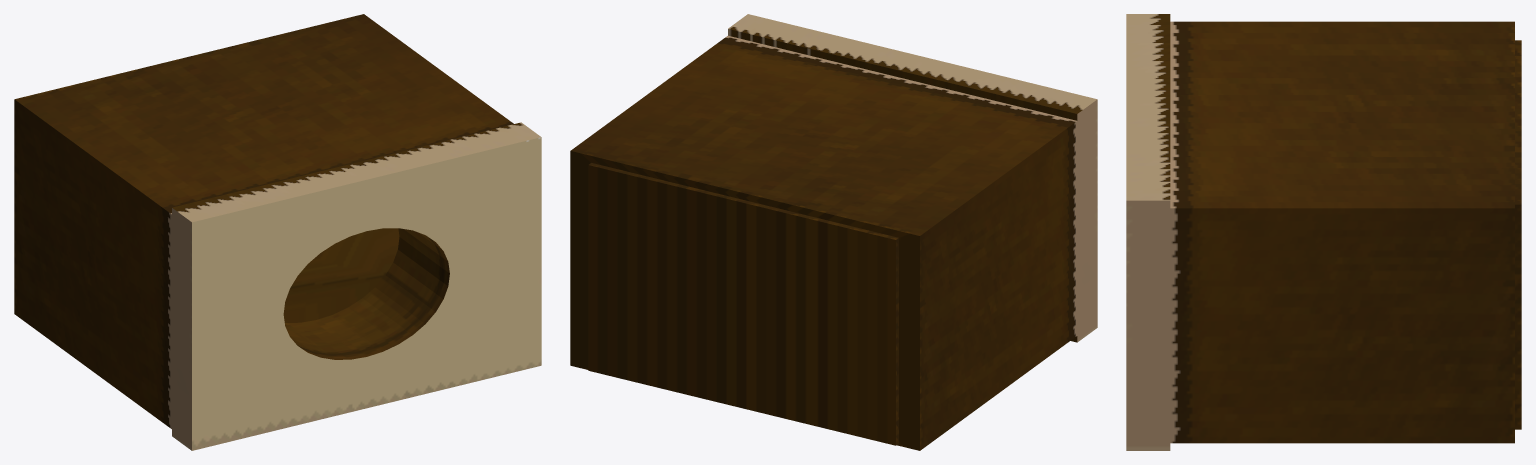
File: pz_counter_modern_floor__sink_inset_oval.obj
The picture shows the model from 3 angles, left to right: view 1: azimuth 30°, elevation 25°; view 2: azimuth 150°, elevation 25°; view 3: azimuth 270°, elevation 25°; orthographic projection. The views are drawn at different scales.
Size of the model in its own units: 1 by 0.6266 by 0.895.
Materials: 1 (1 with a texture image).
